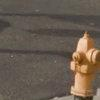Hydrant: (63, 26, 100, 100)
